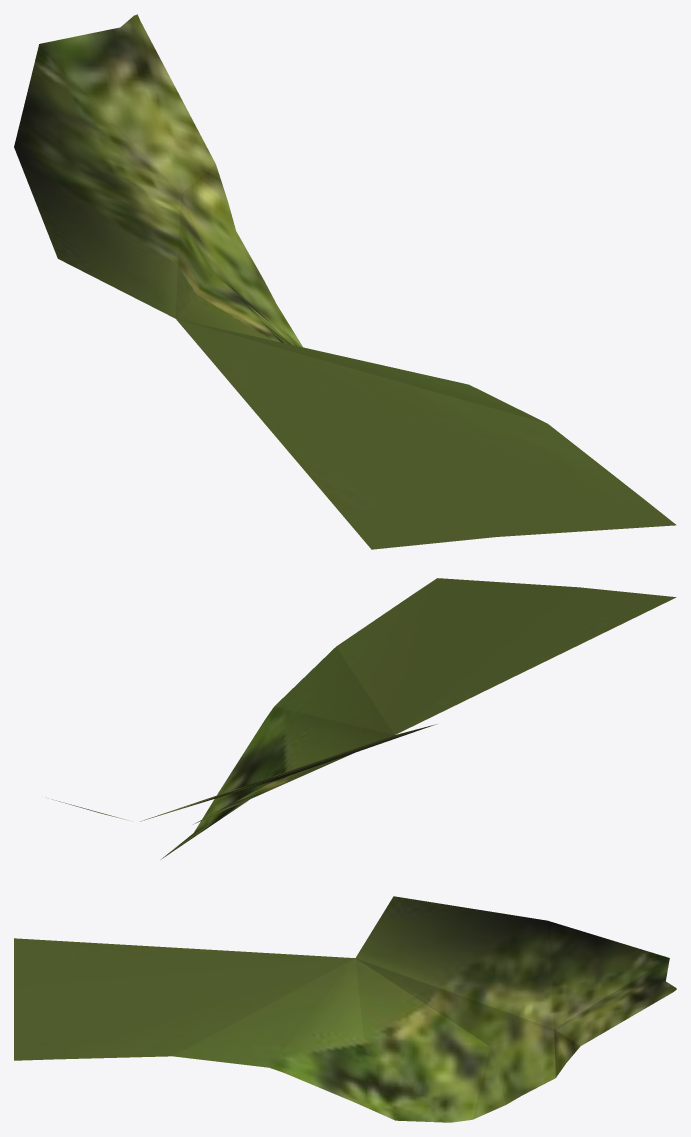
3 views of the same model, one above another, from view 1: azimuth 30°, elevation 25°; view 2: azimuth 150°, elevation 25°; view 3: azimuth 270°, elevation 25° (orthographic). The views are drawn at different scales.
Bounding box in the file's own units: 0.6604 × 0.4416 × 1.99.
Materials: 1 (1 with a texture image).
